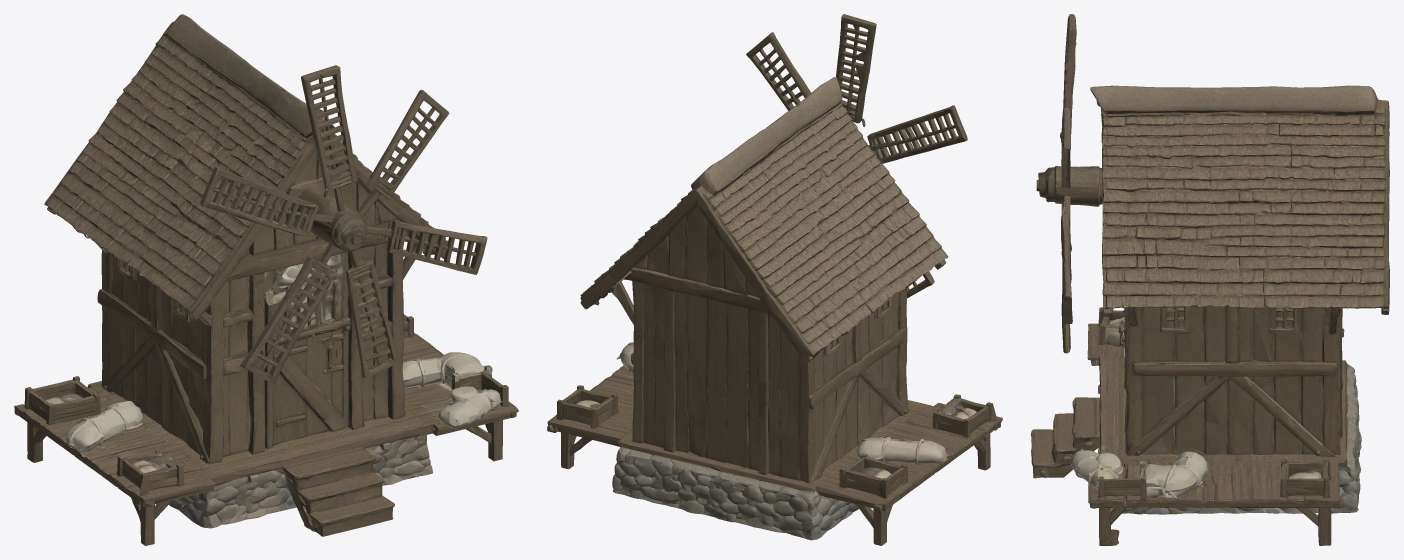
File: gear-ratio-workshop-meshy.web.glb
3 views of the same model, side by side, from view 1: azimuth 30°, elevation 25°; view 2: azimuth 150°, elevation 25°; view 3: azimuth 270°, elevation 25° (orthographic). The views are drawn at different scales.
Visible parts, largest first — view 1: mesh_node; view 2: mesh_node; view 3: mesh_node.
Part boxes in pixels (<box>): mesh_node: <box>14,14,518,545</box>; mesh_node: <box>547,14,1002,545</box>; mesh_node: <box>1031,14,1389,545</box>.
Size of the model in its own units: 1.73 by 1.9 by 1.43.
Materials: 1 (1 with a texture image).
